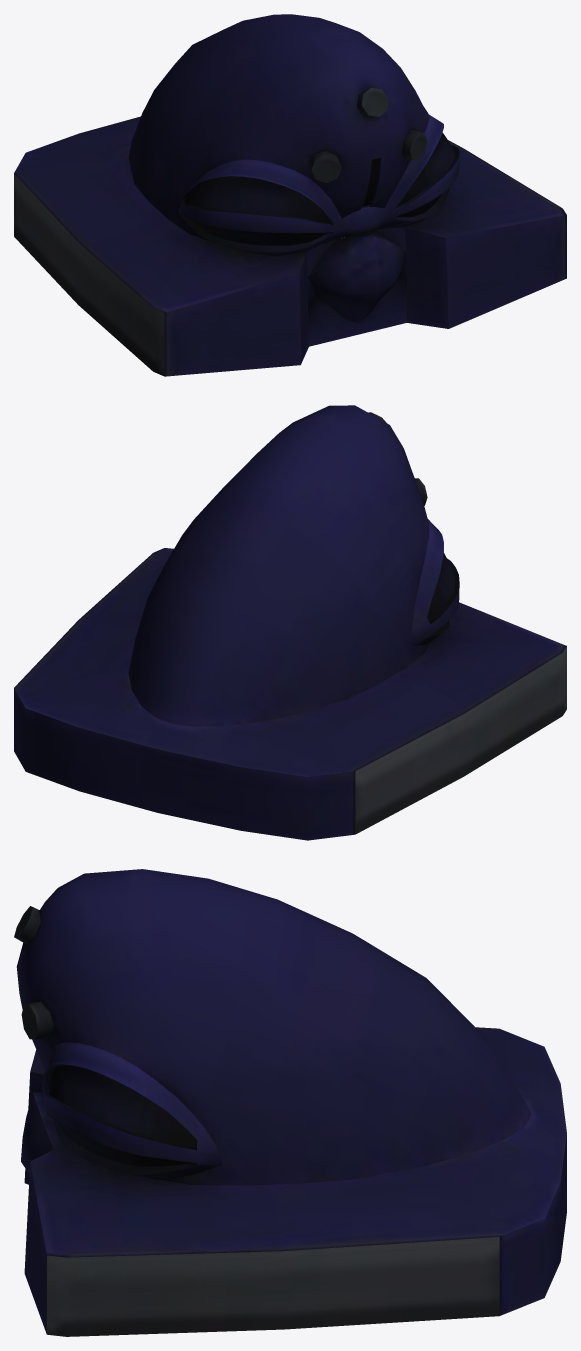
3 renders of one model, top to bottom at view 1: azimuth 30°, elevation 25°; view 2: azimuth 150°, elevation 25°; view 3: azimuth 270°, elevation 25°, orthographic. The views are drawn at different scales.
Parts seen in each view (by area): view 1: c05_103_00 head; view 2: c05_103_00 head; view 3: c05_103_00 head.
Boxes of the visible parts, bbox=[...] form: c05_103_00 head: bbox=[14, 14, 566, 376]; c05_103_00 head: bbox=[14, 405, 566, 840]; c05_103_00 head: bbox=[14, 869, 566, 1336].
Size of the model in its own units: 3.54 by 2.33 by 3.31.
Materials: 1 (1 with a texture image).
